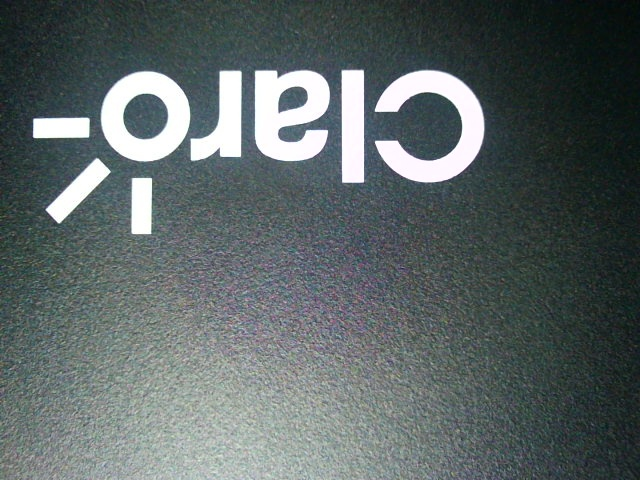BC_Claor: (28, 44, 492, 237)
